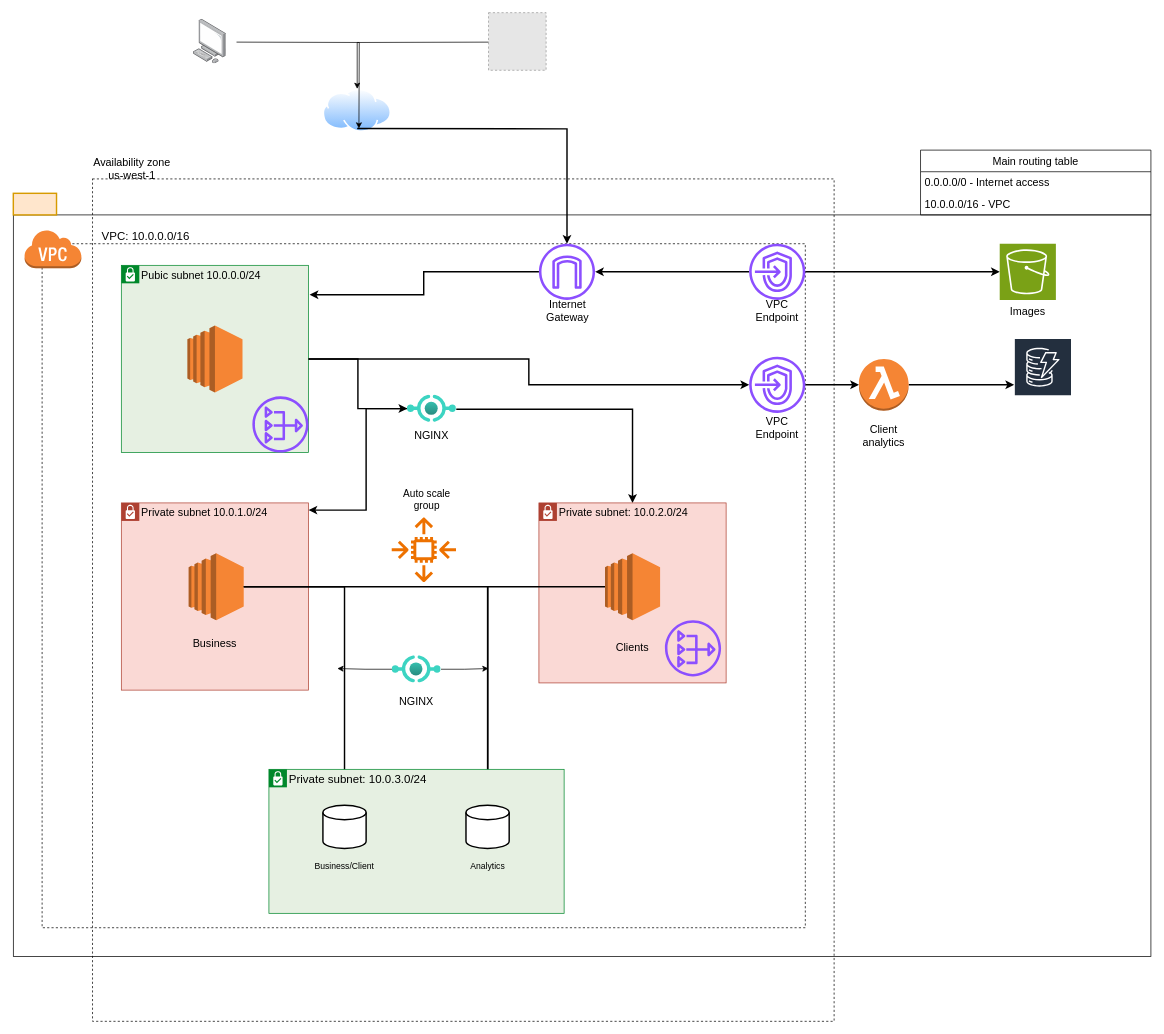
Some shapes in this 1164 by 1034 pixel diagram are drawn without their labels. Grey dashed boxes stand in for pictures. The shapes that lost their labels are listed below. From the top down, each one's centre as x and y in pixels, then its label:
At (357,110): "Public".
At (34,203): "AWS".
At (1042,384): "Impressions database".
